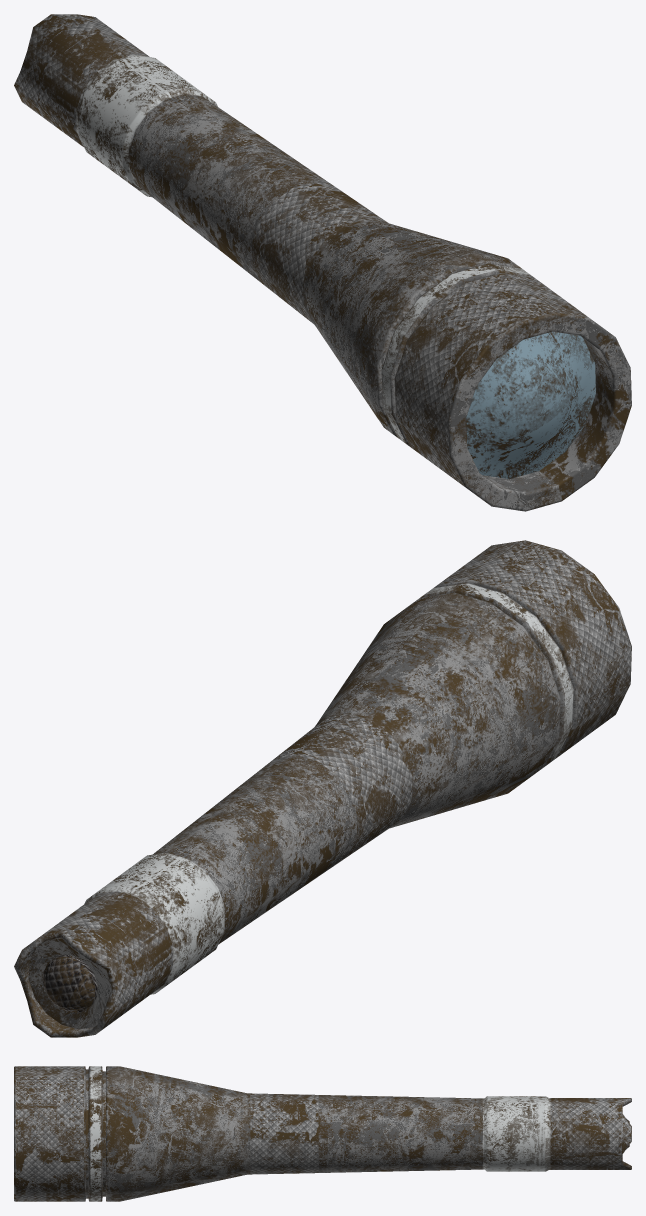
File: lantern.fbx
The picture shows the model from 3 angles, top to bottom: view 1: azimuth 30°, elevation 25°; view 2: azimuth 150°, elevation 25°; view 3: azimuth 270°, elevation 25°; orthographic projection. The views are drawn at different scales.
Visible parts, largest first — view 1: Cylinder; view 2: Cylinder; view 3: Cylinder.
Boxes of the visible parts, bbox=[...] form: Cylinder: bbox=[14, 14, 631, 511]; Cylinder: bbox=[14, 540, 631, 1037]; Cylinder: bbox=[14, 1066, 631, 1201].
Size of the model in its own units: 2.31 by 2.31 by 10.5.
Materials: 1 (1 with a texture image).
